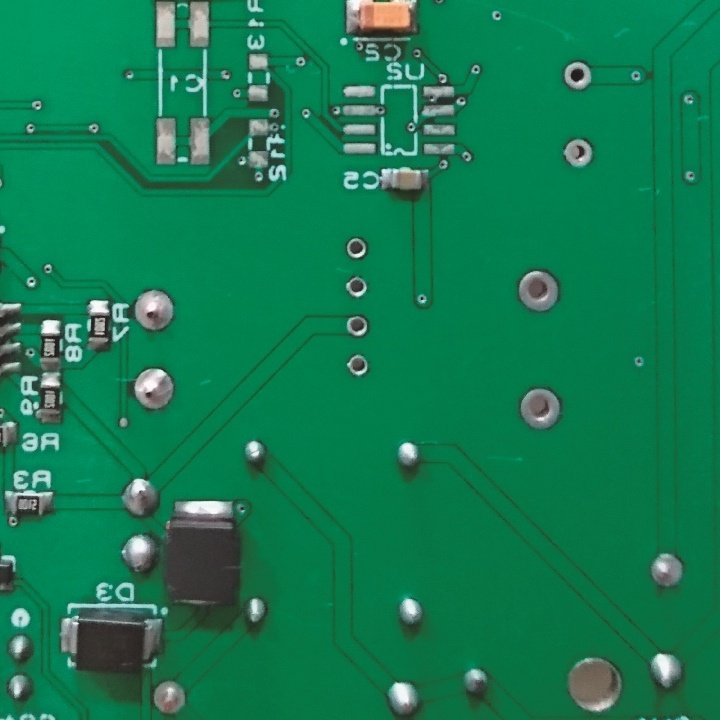F: (130, 287, 180, 335), (515, 266, 562, 315), (518, 385, 563, 435), (130, 365, 176, 413), (649, 551, 687, 589), (560, 135, 596, 174), (560, 55, 595, 95), (150, 676, 185, 716), (342, 234, 369, 261), (343, 312, 370, 339), (342, 273, 369, 299), (346, 351, 369, 379)
